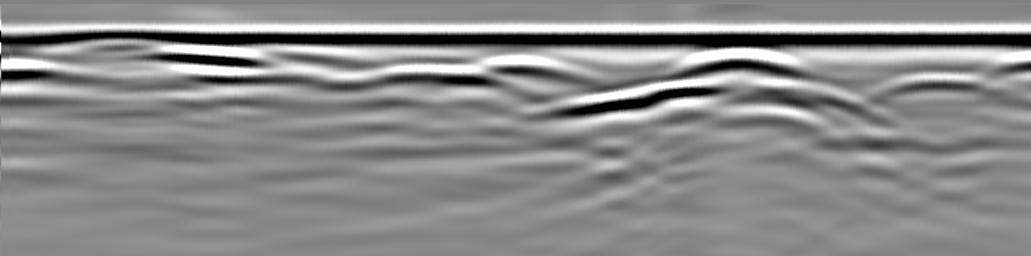pipe: (66, 26, 172, 53)
steel: (399, 54, 566, 85), (668, 47, 815, 78)
